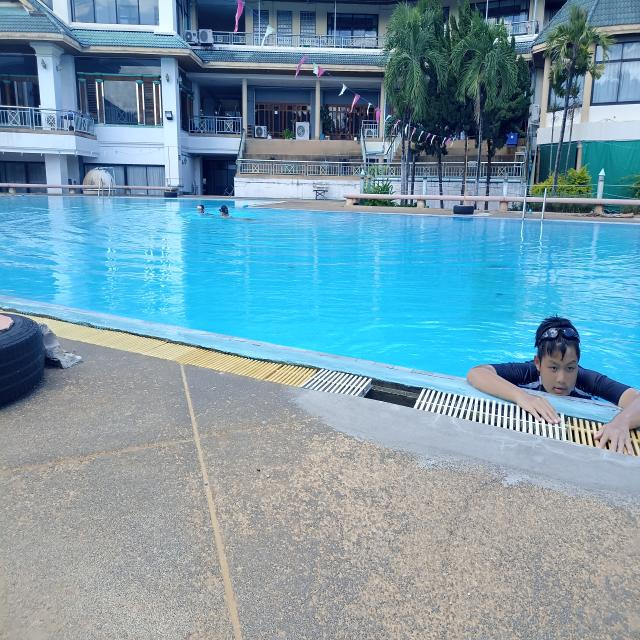Swimming: (484, 297, 637, 430), (213, 201, 258, 226), (191, 198, 213, 223)
